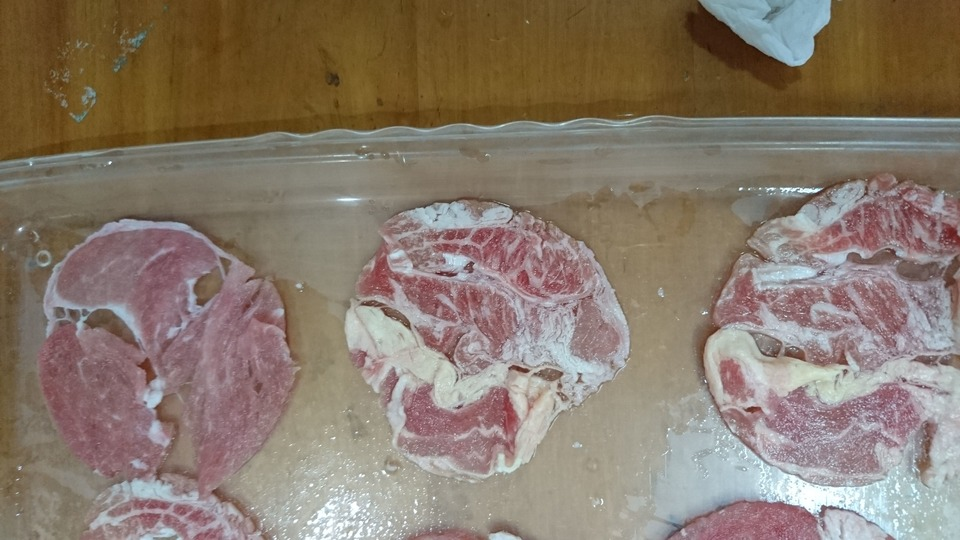restructured meat: (338, 177, 644, 469), (686, 162, 960, 474), (32, 217, 329, 489), (66, 483, 277, 538), (664, 500, 891, 540)
